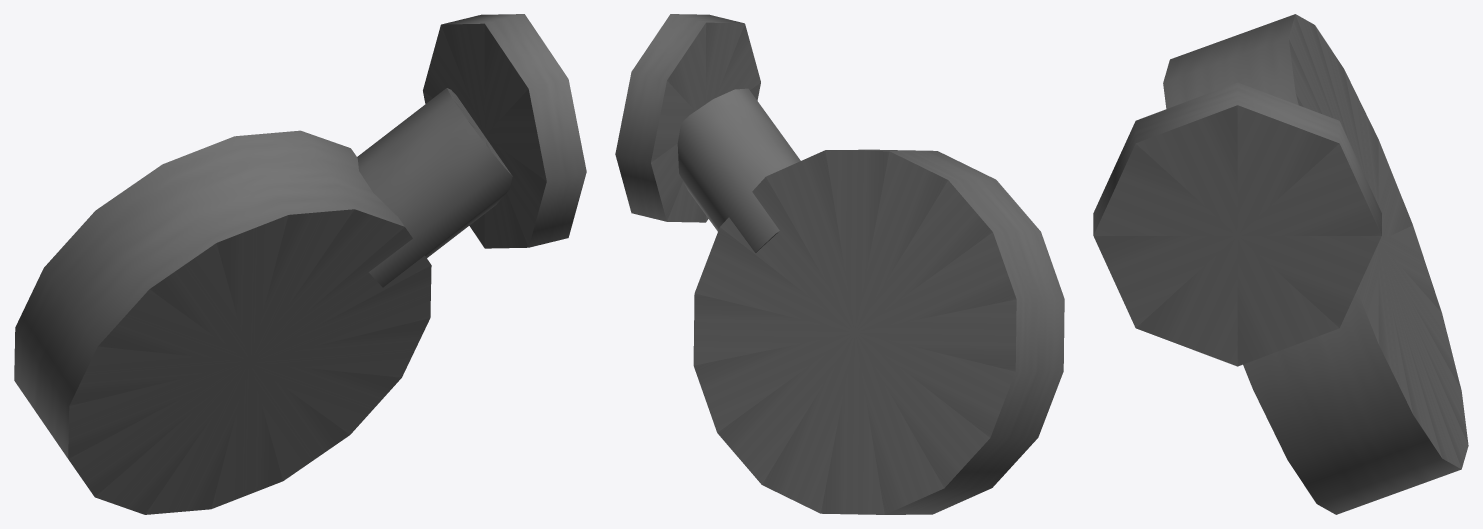
File: mastarmcurve_8x2_c2_east.obj
3 renders of one model, left to right at view 1: azimuth 30°, elevation 25°; view 2: azimuth 150°, elevation 25°; view 3: azimuth 270°, elevation 25°, orthographic. The views are drawn at different scales.
Parts seen in each view (by area): view 1: mastarm_8x2_c2_east; view 2: mastarm_8x2_c2_east; view 3: mastarm_8x2_c2_east.
Boxes of the visible parts, bbox=[...] form: mastarm_8x2_c2_east: bbox=[14, 14, 586, 514]; mastarm_8x2_c2_east: bbox=[615, 14, 1064, 514]; mastarm_8x2_c2_east: bbox=[1093, 14, 1468, 514].
Size of the model in its own units: 0.8356 by 0.8236 by 0.5202.
